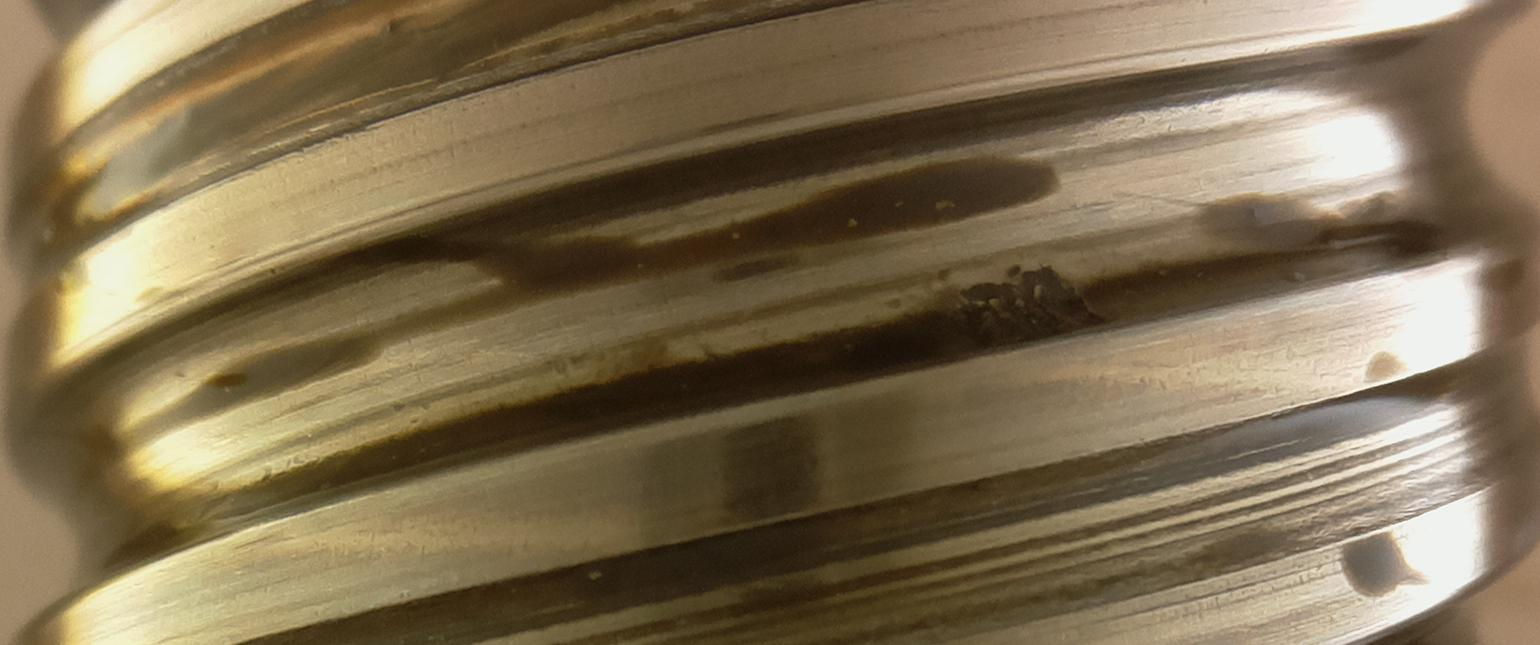pitting: (950, 263, 1108, 351)
